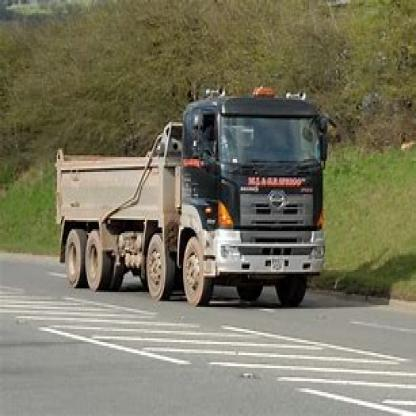dump_truck: (42, 81, 328, 318)
